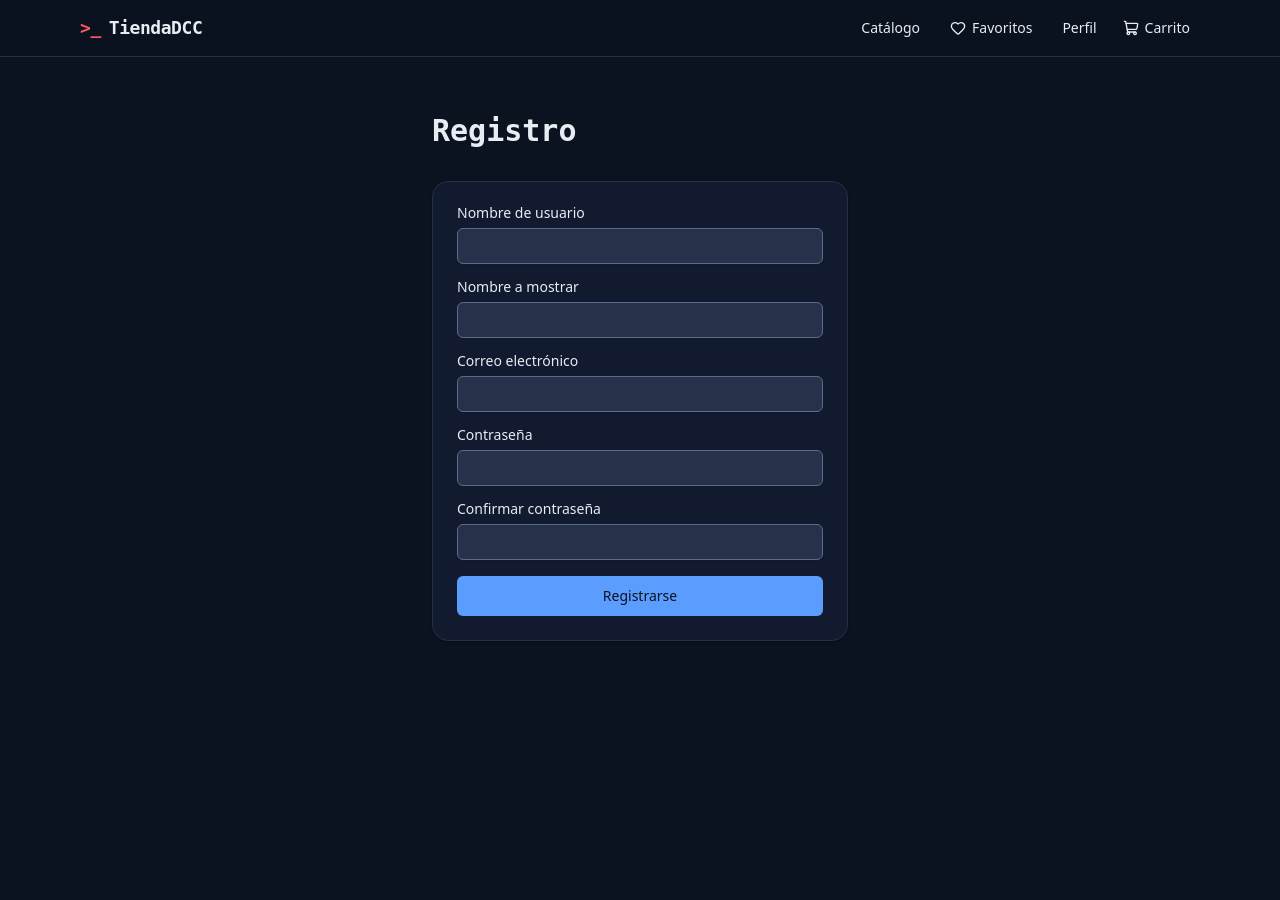
Scenario: RegisterPage › rejects a password confirmation that does not match
Type "anaperez" into the field labelled "Nombre de usuario". click: (640, 246)
box: left=457, top=228, right=823, bottom=264
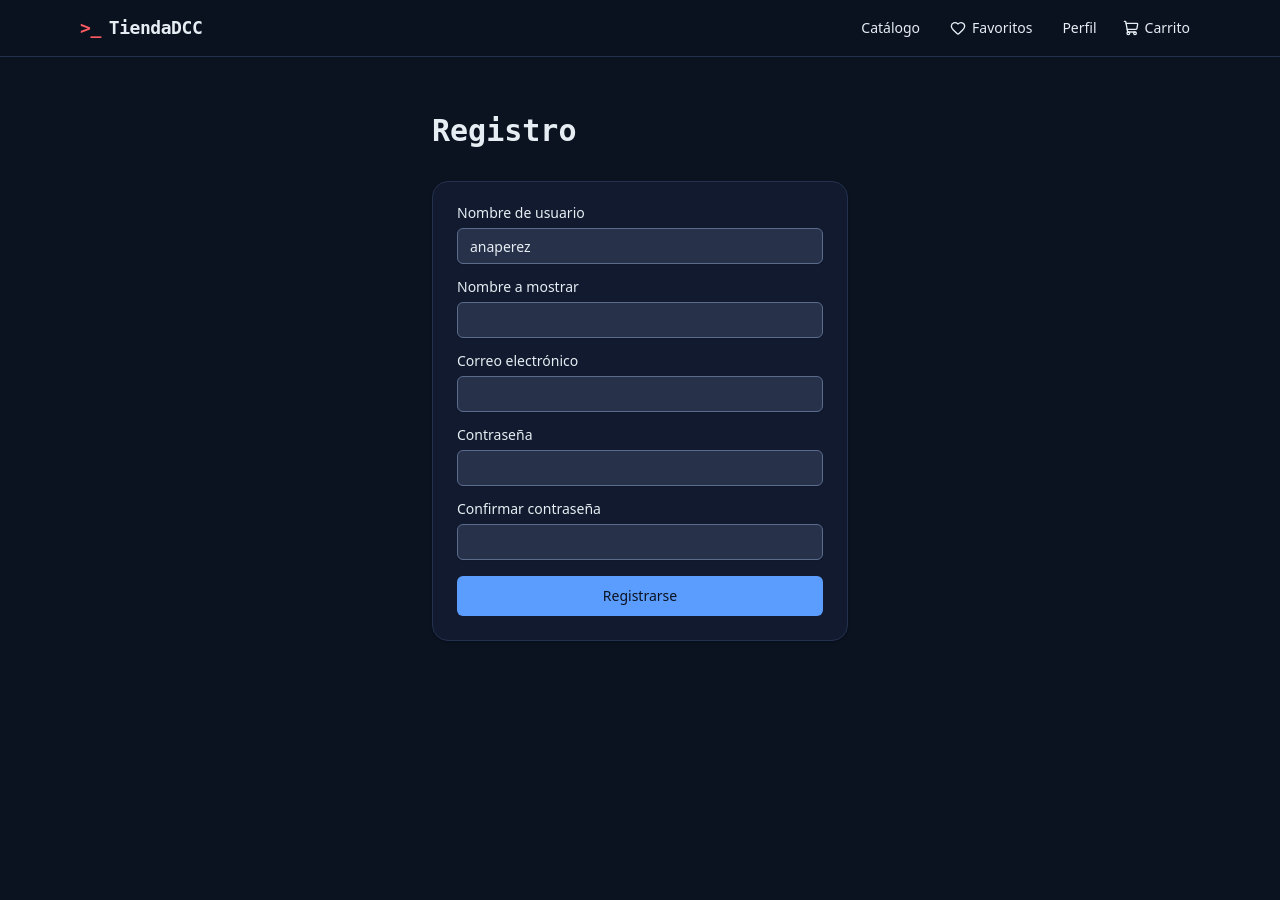
Type "Ana Pérez" into the field labelled "Nombre a mostrar". click: (640, 320)
box: left=457, top=302, right=823, bottom=338
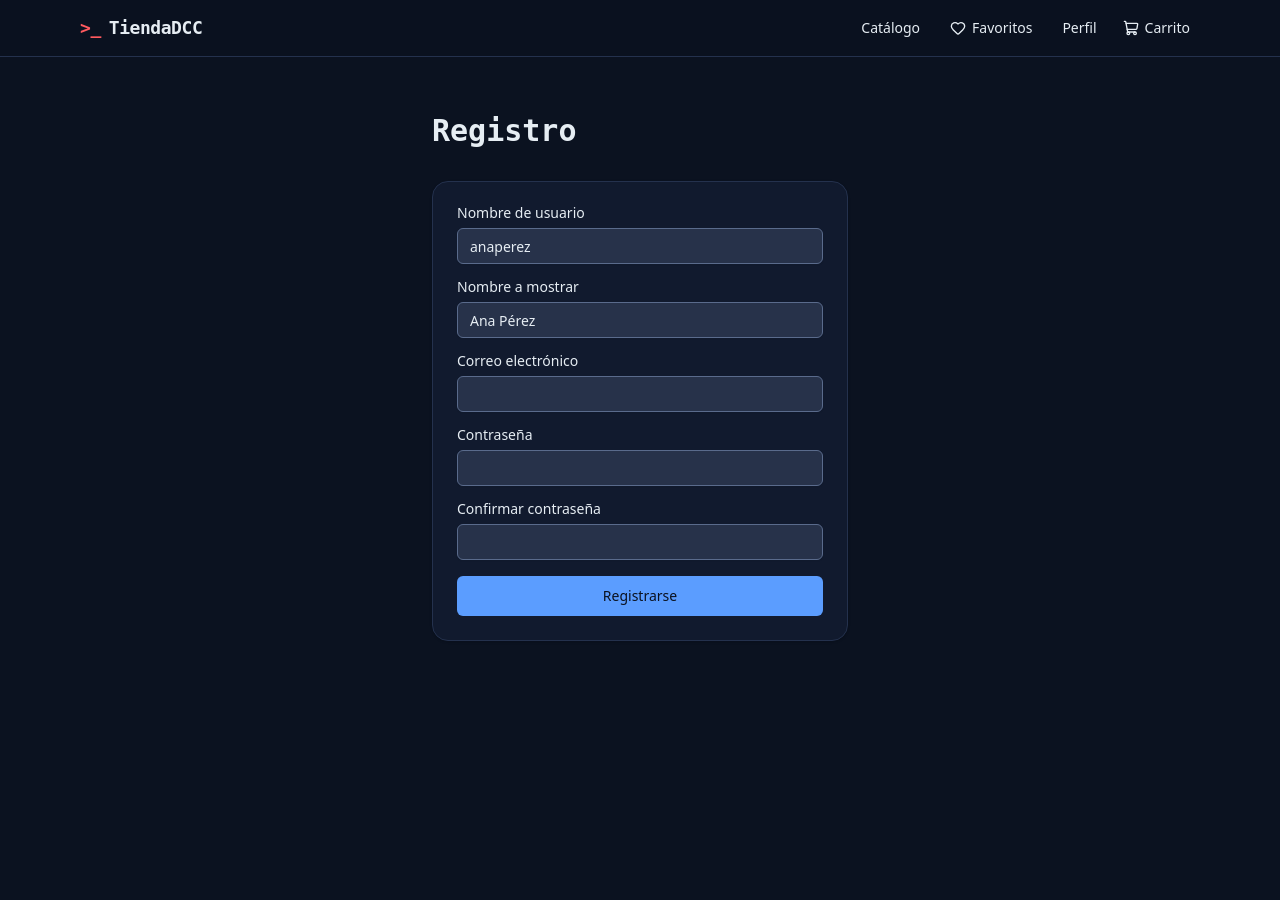
Type "ana@dcc.uchile.cl" into the field labelled "Correo electrónico". click: (640, 394)
box: left=457, top=376, right=823, bottom=412
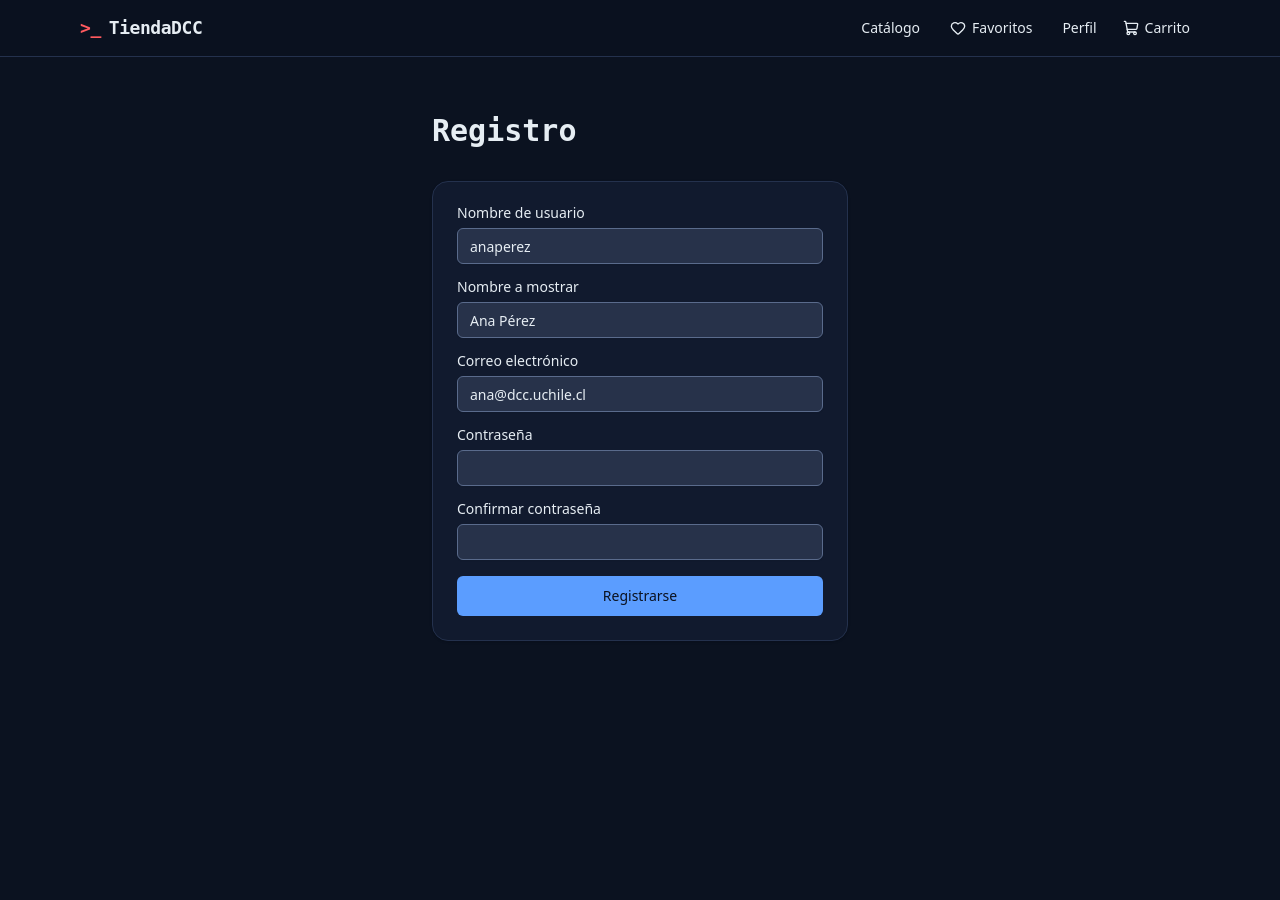
Type "secreto123" into the password field labelled "Contraseña". click: (640, 468)
box: left=457, top=450, right=823, bottom=486
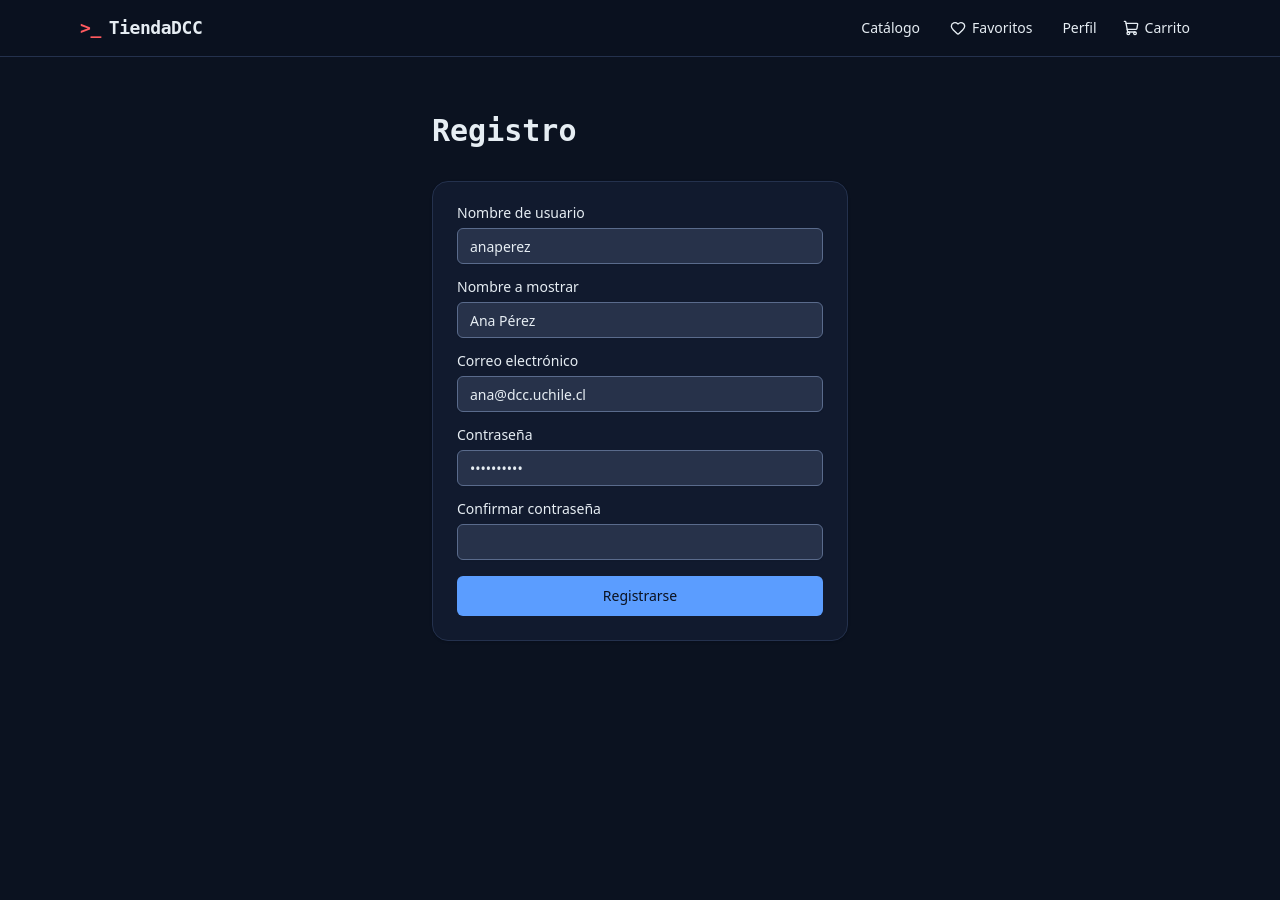
Type "otra12345" into the password field labelled "Confirmar contraseña". click: (640, 542)
box: left=457, top=524, right=823, bottom=560
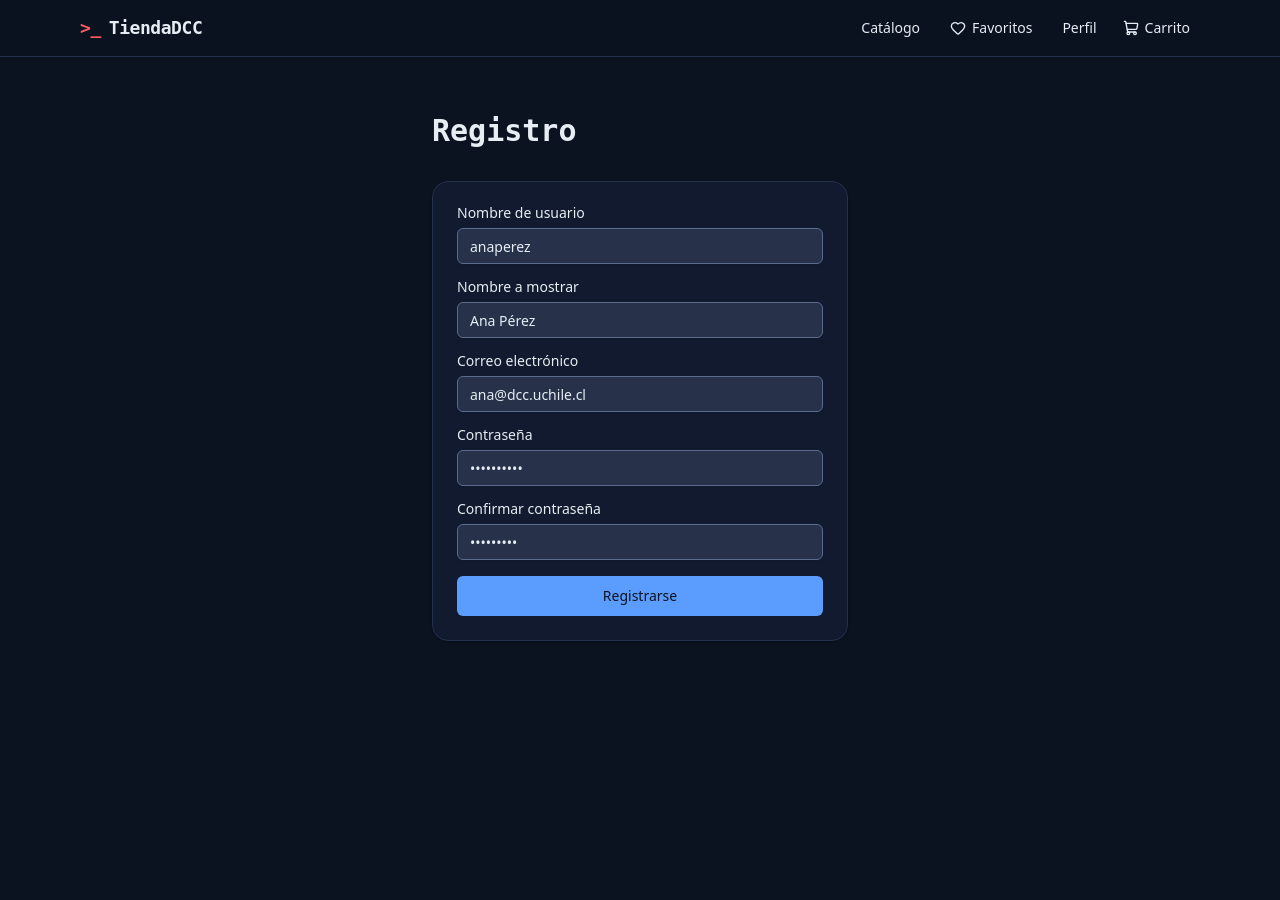
Click the button "Registrarse". click: (640, 596)
box: left=457, top=576, right=823, bottom=616
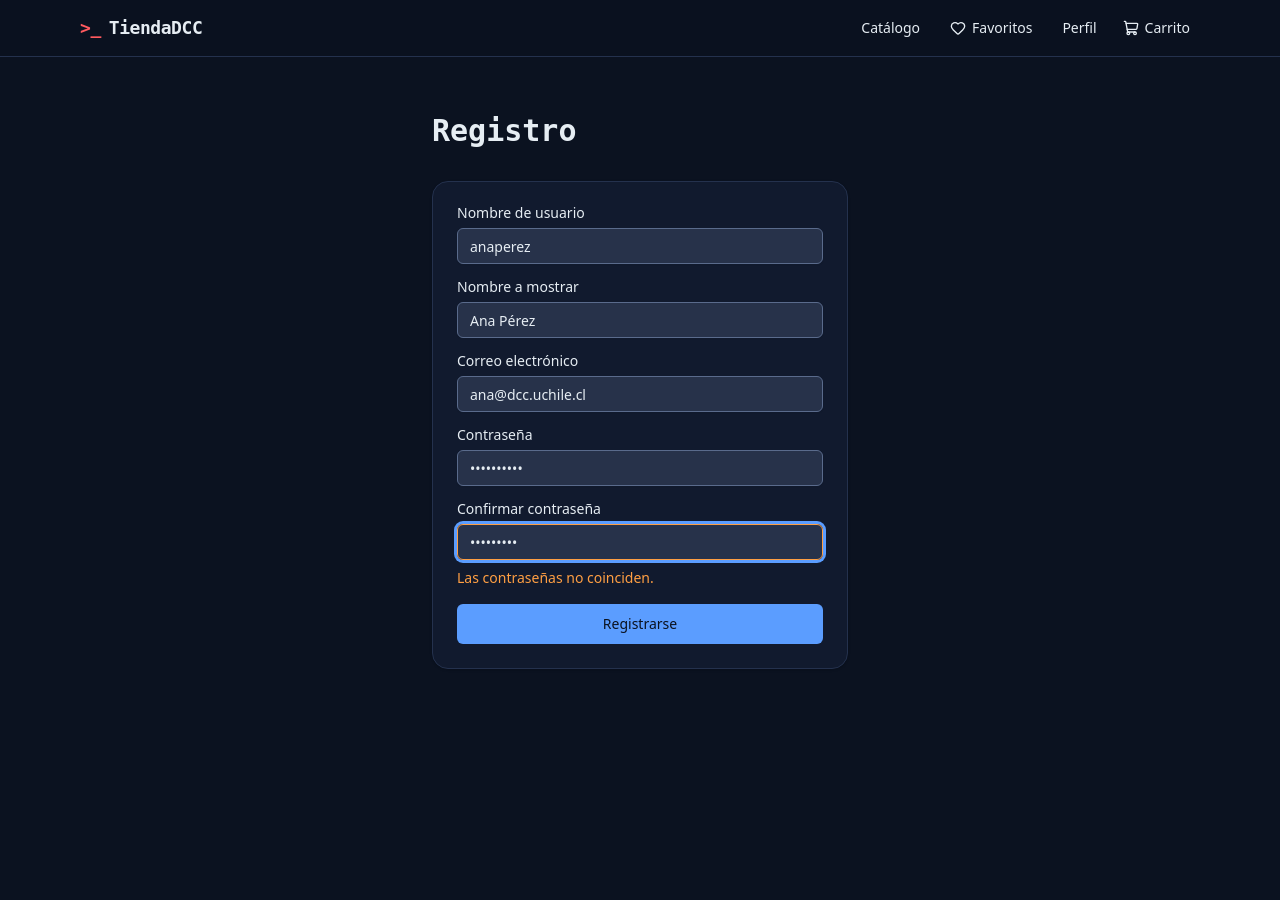
Check: the text "Las contraseñas no coinciden." is shown, box left=457, top=568, right=654, bottom=587
